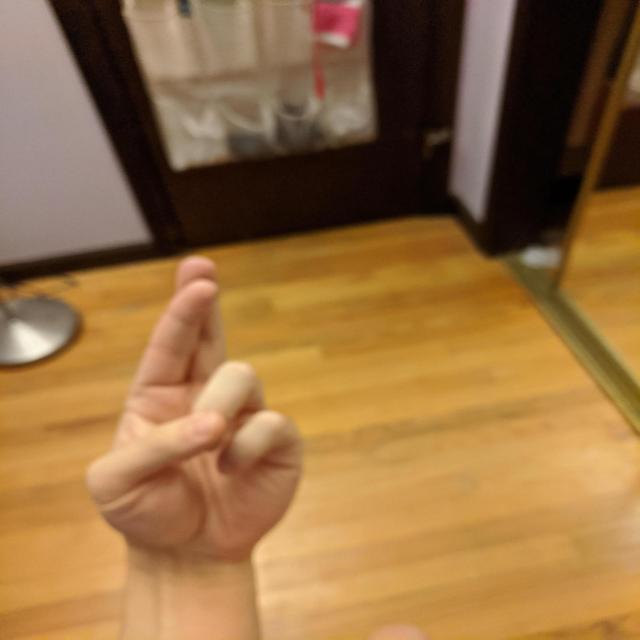R: (78, 247, 316, 558)
